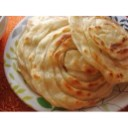parota: (35, 26, 119, 105), (20, 16, 84, 95), (70, 11, 128, 78)
